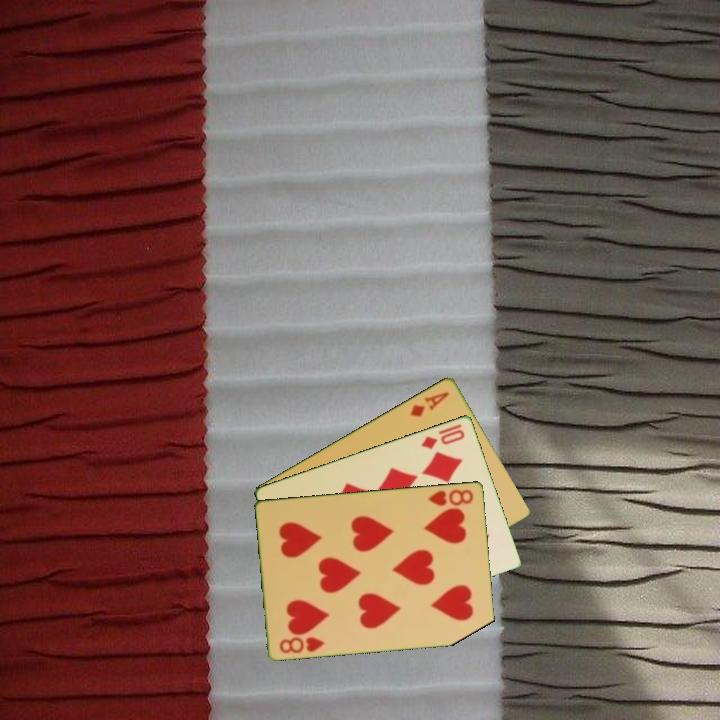10d: (417, 425, 468, 452)
8h: (276, 633, 328, 656), (424, 486, 476, 508)
Ad: (406, 388, 452, 420)
